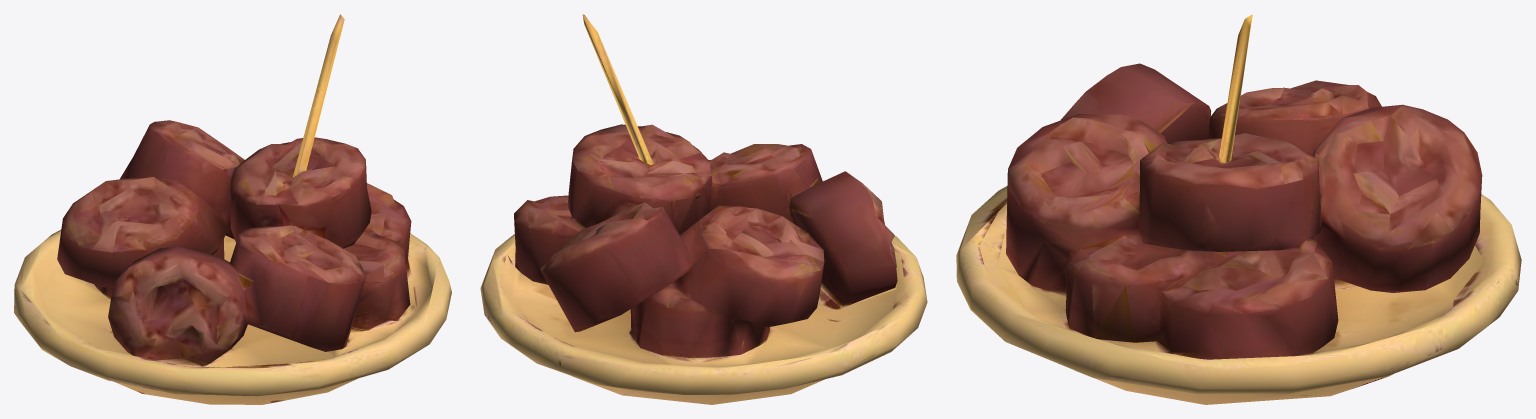
The picture shows the model from 3 angles, left to right: view 1: azimuth 30°, elevation 25°; view 2: azimuth 150°, elevation 25°; view 3: azimuth 270°, elevation 25°; orthographic projection. The views are drawn at different scales.
Visible parts, largest first — view 1: sundae; view 2: sundae; view 3: sundae.
Boxes of the visible parts, <box> form: sundae: <box>14,14,451,404</box>; sundae: <box>480,14,927,404</box>; sundae: <box>956,14,1521,404</box>.
Bounding box in the file's own units: 0.1802 × 0.1338 × 0.1797.
Materials: 1 (1 with a texture image).
